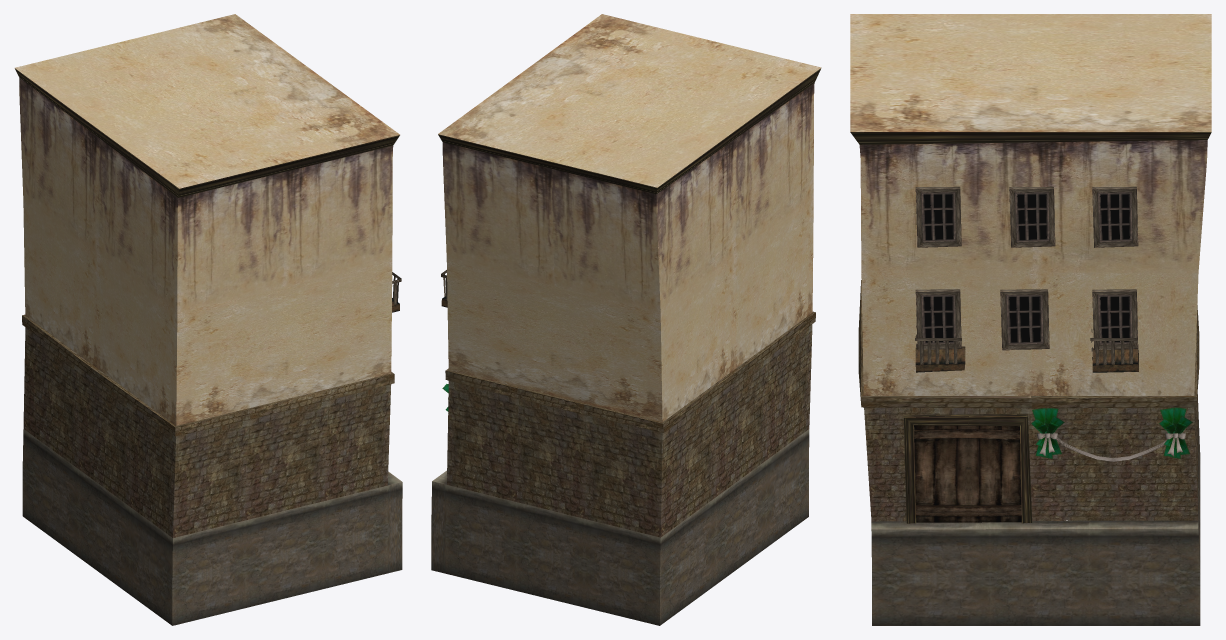
Rendered from english_f.fbx.
The picture shows the model from 3 angles, left to right: view 1: azimuth 30°, elevation 25°; view 2: azimuth 150°, elevation 25°; view 3: azimuth 270°, elevation 25°; orthographic projection. The views are drawn at different scales.
Visible parts, largest first — view 1: building_shell, building_shell4; view 2: building_shell, building_shell4; view 3: building_shell, building_shell4, door_left, door_right, door_frame, window_015, window_013, window_012, window_011, step, window_016, window_014.
Boxes of the visible parts, <box> form: building_shell: <box>14,14,399,625</box>; building_shell4: <box>387,482,402,573</box>; building_shell: <box>438,14,821,625</box>; building_shell4: <box>431,481,446,573</box>; building_shell: <box>850,14,1211,566</box>; building_shell4: <box>871,523,1200,625</box>; door_left: <box>914,425,968,522</box>; door_right: <box>968,425,1021,522</box>; door_frame: <box>903,413,1032,523</box>; window_015: <box>1000,289,1049,350</box>; window_013: <box>915,186,961,247</box>; window_012: <box>1009,186,1055,247</box>; window_011: <box>1092,186,1138,247</box>; step: <box>871,520,1198,529</box>; window_016: <box>1092,289,1138,350</box>; window_014: <box>915,289,961,349</box>.
Size of the model in its own units: 3058 by 5144 by 3458.
2 materials, 2 textured.
